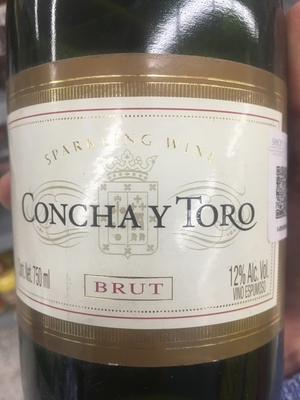brut: (8, 16, 291, 400)
